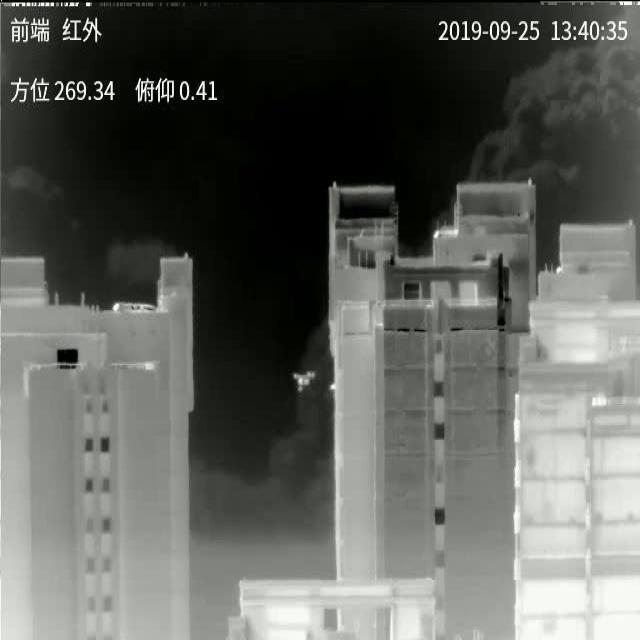drone: (292, 371, 316, 392)
